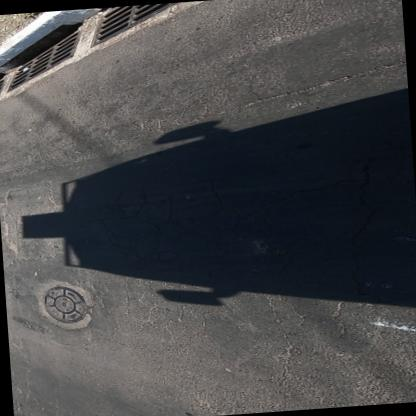manholes: (30, 275, 110, 332)
